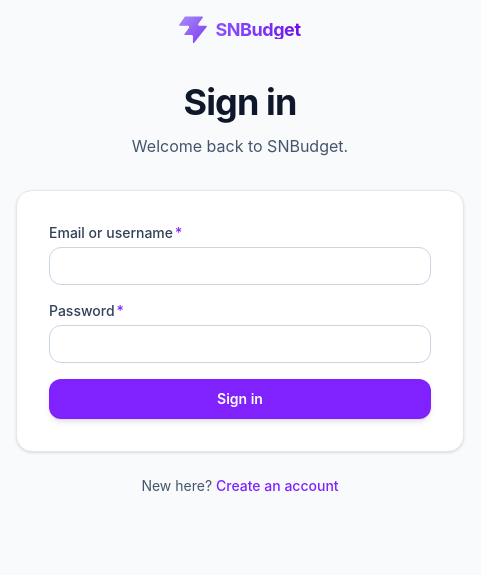
Test: SignIn page › surfaces server errors verbatim (e.g. email not verified)
In the field labelled "Email or username*": (240, 266) [49,247,431,285], type "jane@example.com"
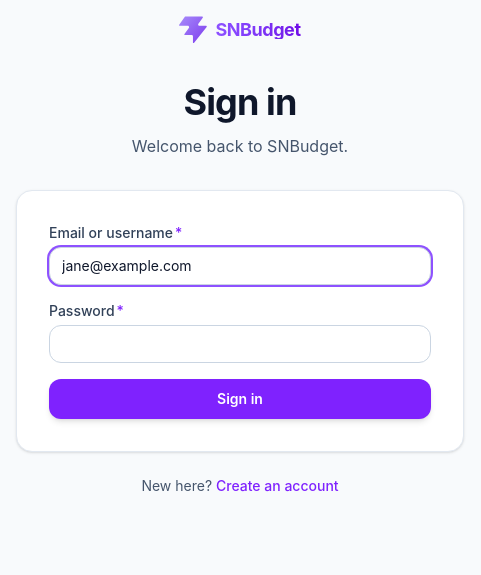
In the password field labelled "Password*": (240, 344) [49,325,431,363], type "hunter22!"
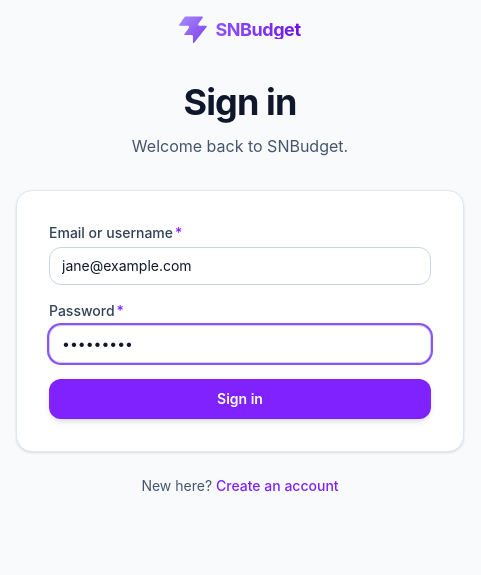
Click the button "Sign in": (240, 399) [49,379,431,419]
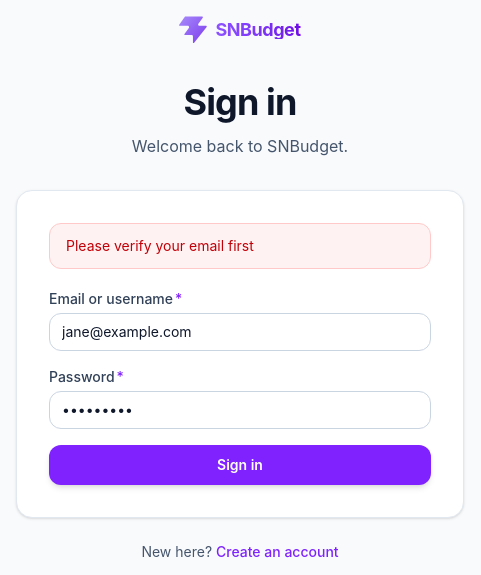
expect the message reads "Please verify your email first": met, box [66,237,254,254]
